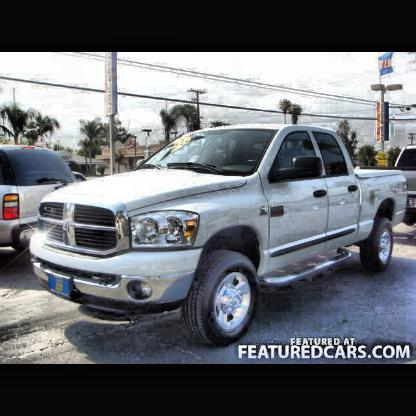Dodge Ram Pickup 3500 Quad Cab 2009: (30, 128, 408, 349)
